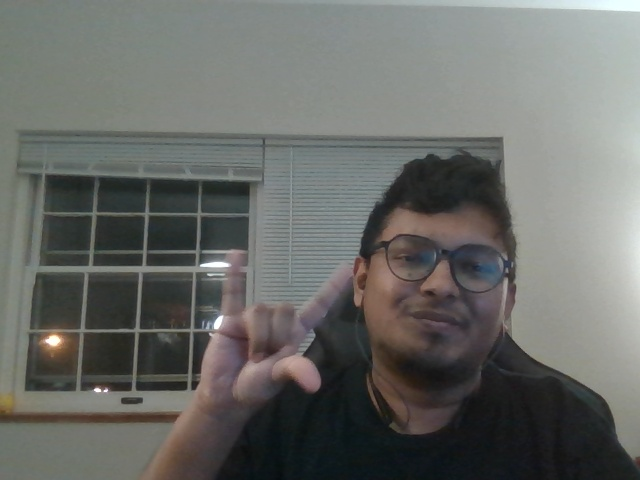ilikeyou: (181, 241, 352, 432)
